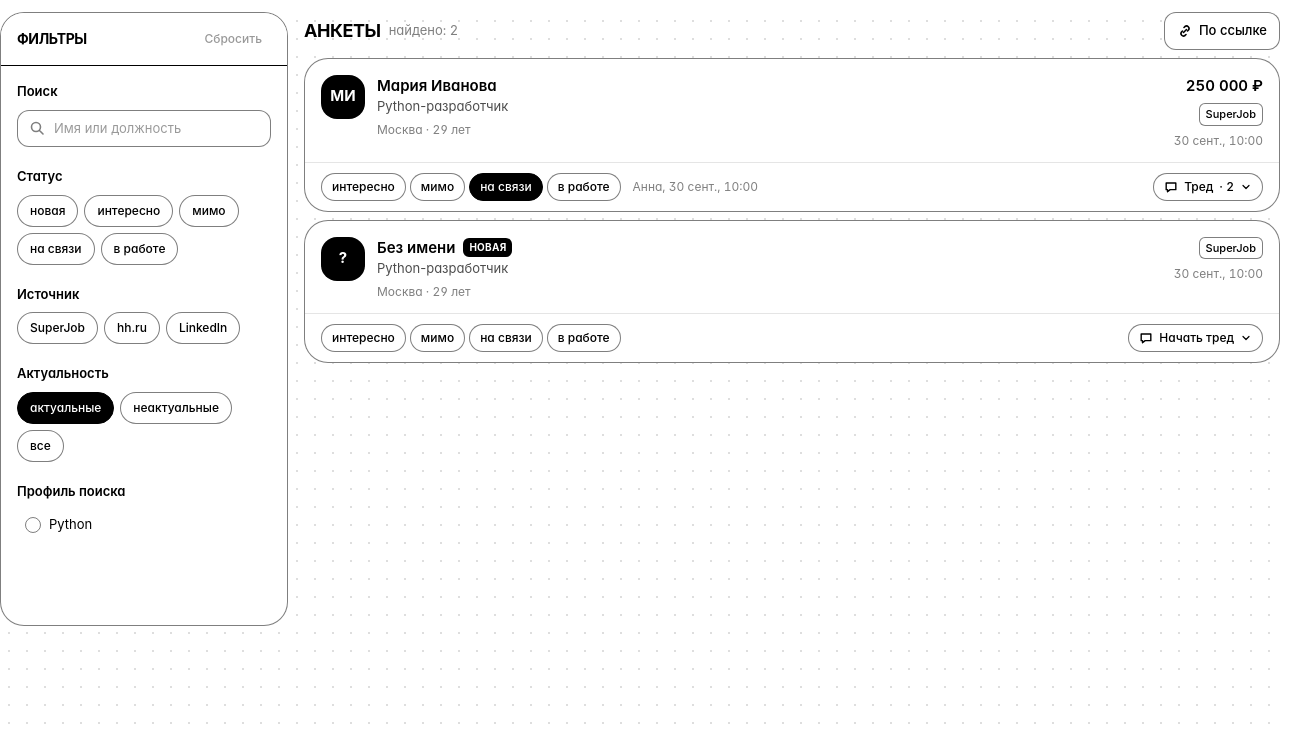
it: FeedPage › opens the comment thread right under the card
This screenshot has width=1292, height=732.
Click the button "Тред · 2" at {"x": 1208, "y": 186}, box [1153,172,1263,200]
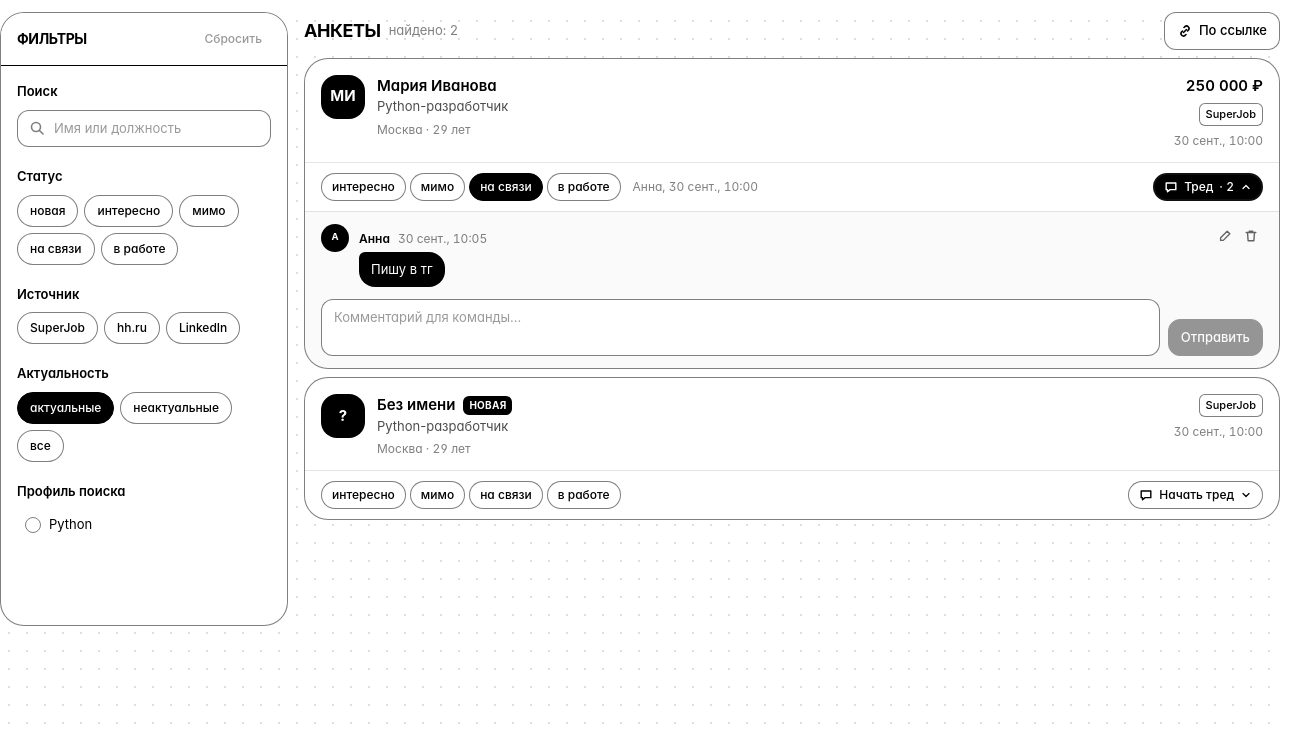
Now the text "Пишу в тг" is shown, box [359,252,445,287]
Now the button "Тред · 2" is expanded, box [1153,172,1263,200]
